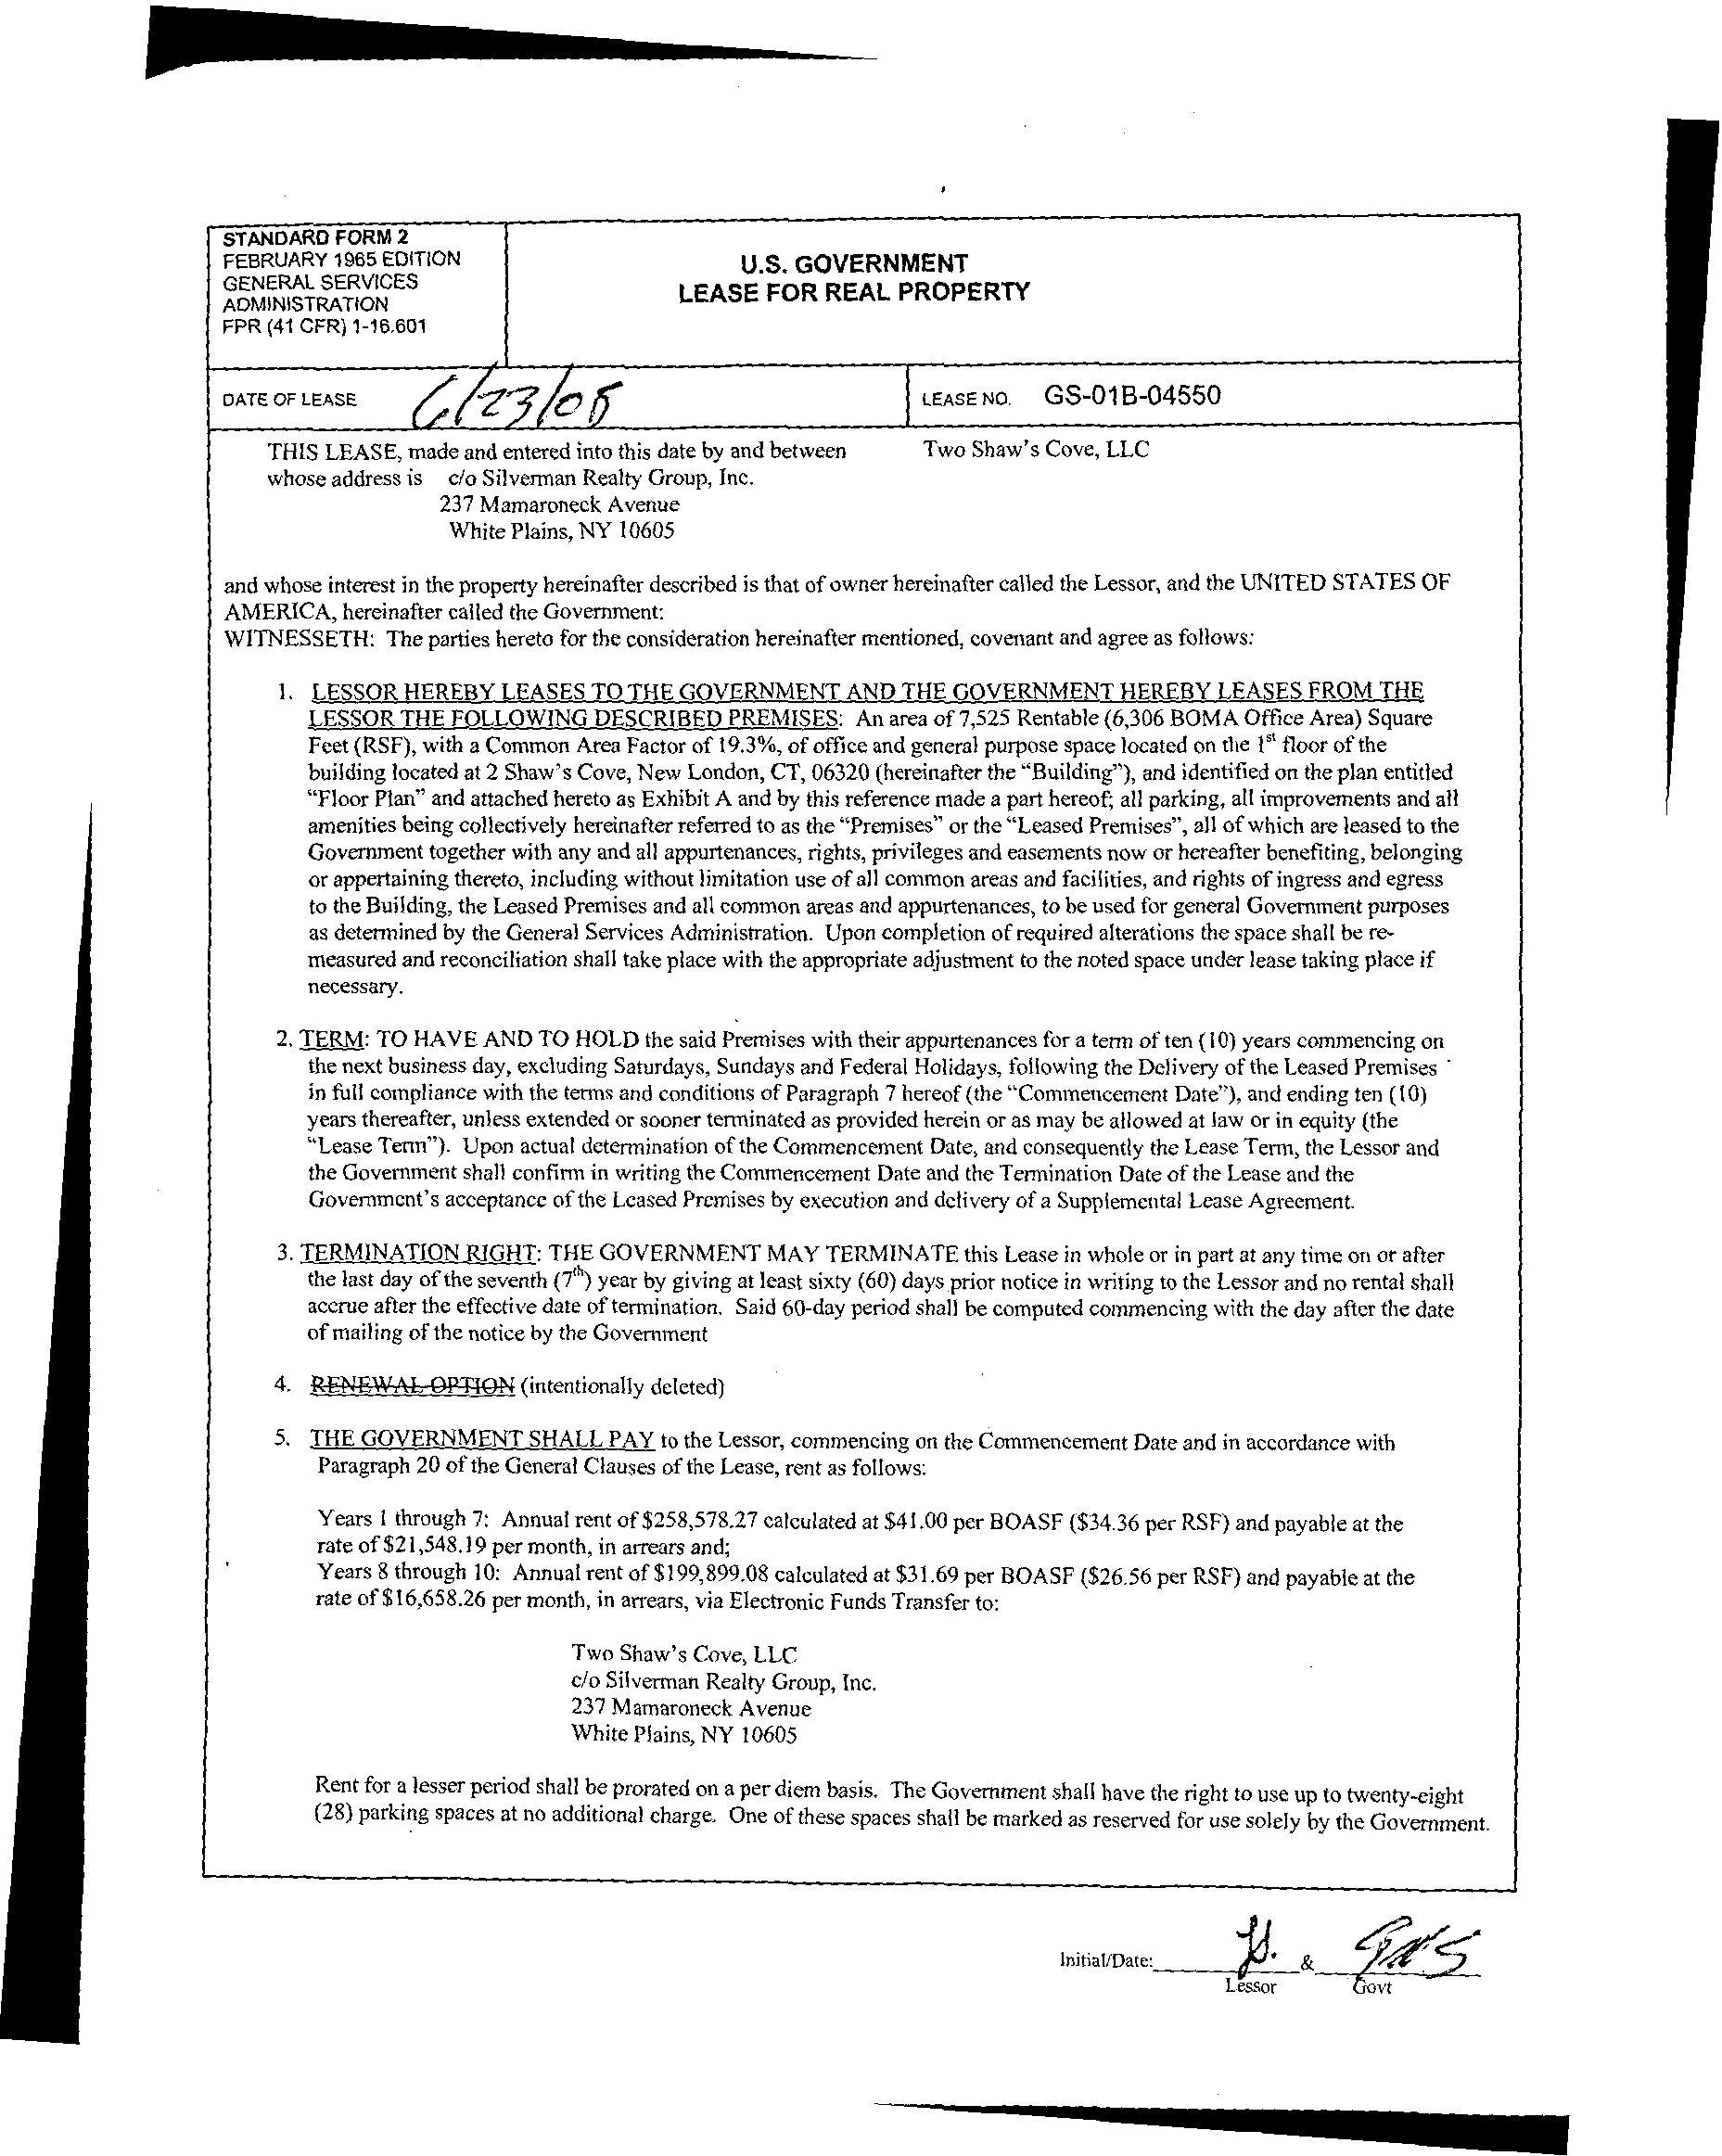handwritten: (1177, 1889, 1532, 2021), (383, 355, 654, 441)
